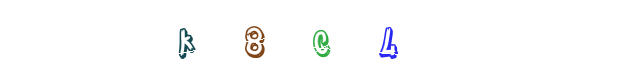4: (349, 0, 429, 80)
8: (233, 0, 313, 80)
C: (270, 0, 350, 80)
K: (215, 0, 295, 80)
